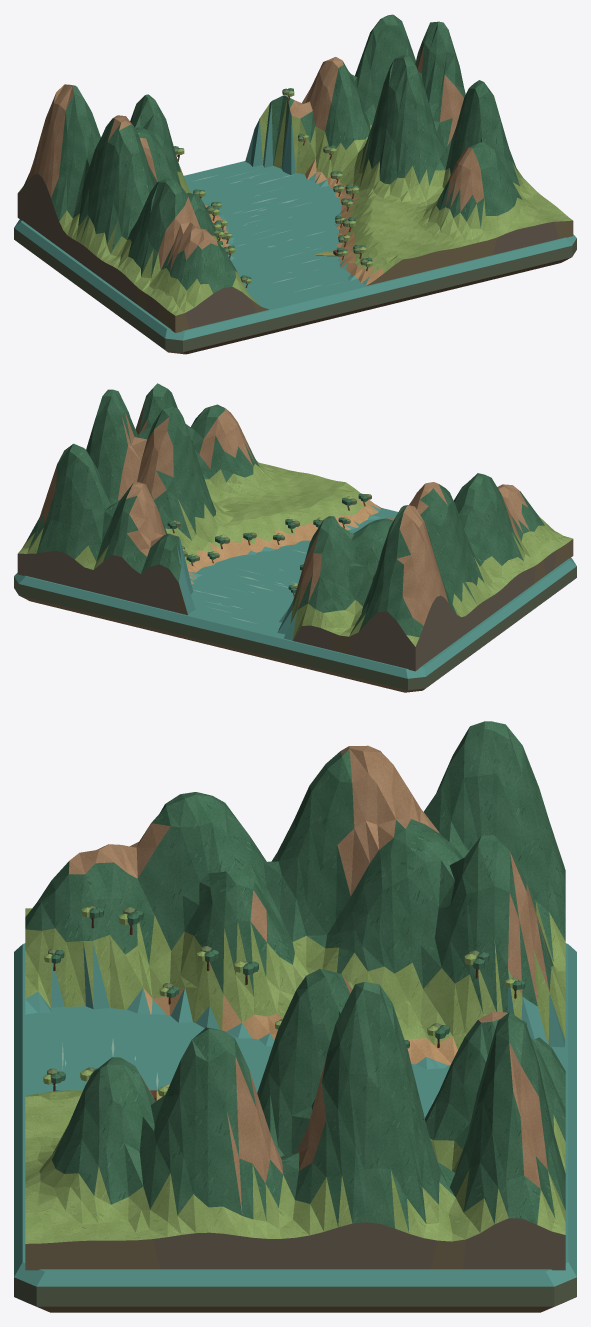
File: yangshuo.glb
3 renders of one model, top to bottom at view 1: azimuth 30°, elevation 25°; view 2: azimuth 150°, elevation 25°; view 3: azimuth 270°, elevation 25°, orthographic. The views are drawn at different scales.
Visible parts, largest first — view 1: 阳朔漓江·黄布倒影; view 2: 阳朔漓江·黄布倒影; view 3: 阳朔漓江·黄布倒影.
Boxes of the visible parts, <box> form: 阳朔漓江·黄布倒影: <box>14,14,576,354</box>; 阳朔漓江·黄布倒影: <box>14,383,576,692</box>; 阳朔漓江·黄布倒影: <box>14,721,576,1312</box>.
Bounding box in the file's own units: 6.15 × 2.5 × 4.25.
Materials: 14 (6 with a texture image).
